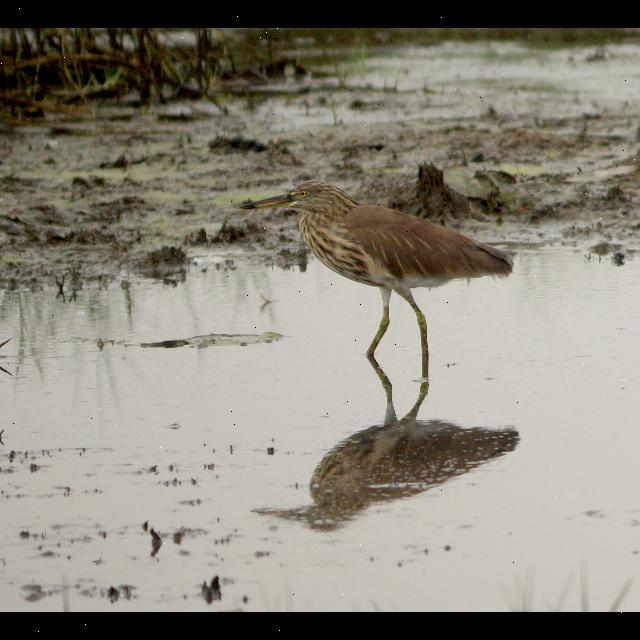heron: (238, 182, 504, 400)
